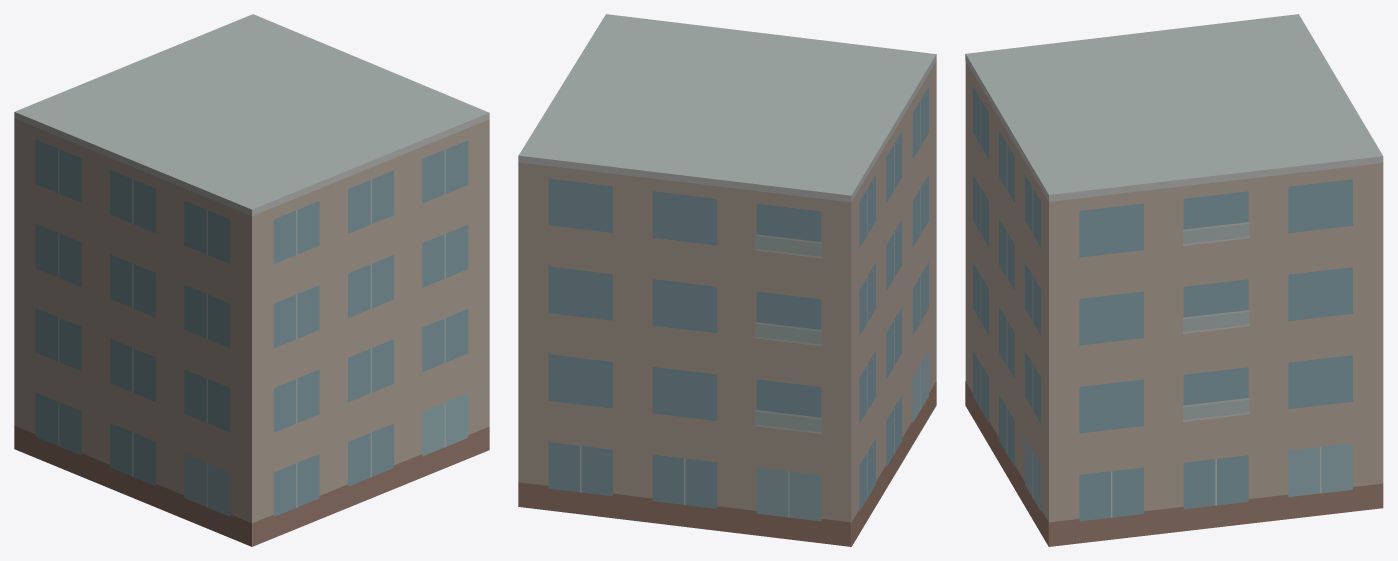
The model's file is survey-upis-32972963.glb.
3 views of the same model, side by side, from view 1: azimuth 30°, elevation 25°; view 2: azimuth 150°, elevation 25°; view 3: azimuth 270°, elevation 25° (orthographic). The views are drawn at different scales.
Parts seen in each view (by area): view 1: survey-upis-32972963.tmp; view 2: survey-upis-32972963.tmp; view 3: survey-upis-32972963.tmp.
Boxes of the visible parts, x1=… form: survey-upis-32972963.tmp: x1=14, y1=14, x2=489, y2=546; survey-upis-32972963.tmp: x1=518, y1=14, x2=936, y2=546; survey-upis-32972963.tmp: x1=965, y1=14, x2=1383, y2=546.
Size of the model in its own units: 13.91 by 12.6 by 13.57.
